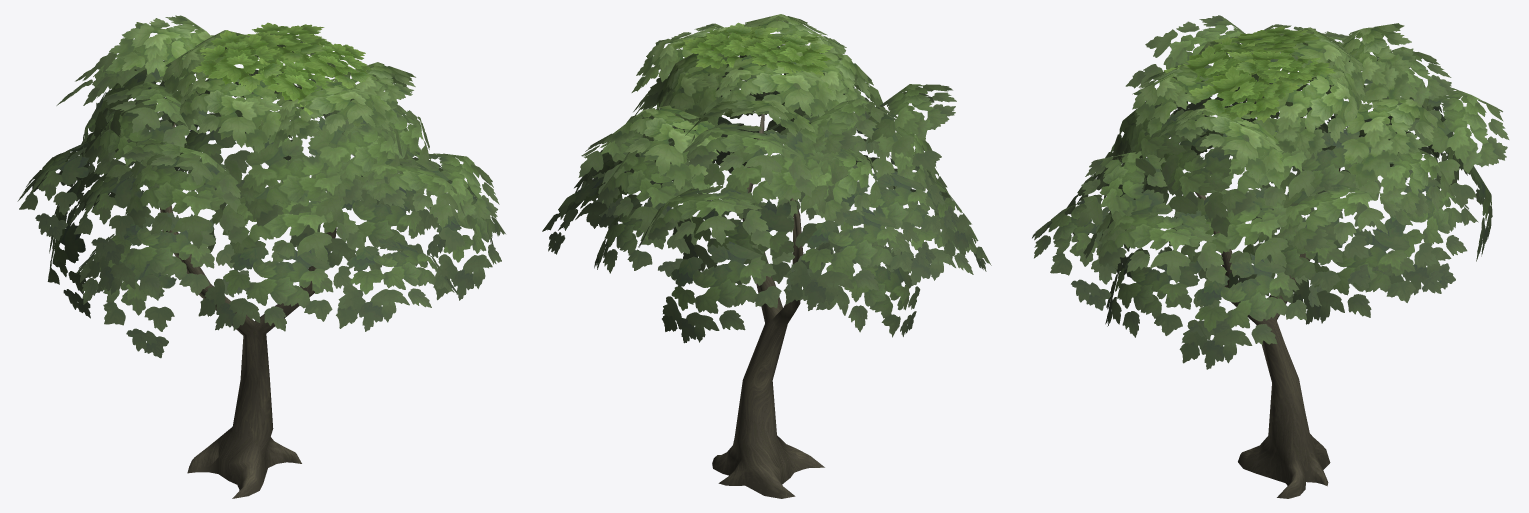
The model's file is tree6.glb.
The picture shows the model from 3 angles, left to right: view 1: azimuth 30°, elevation 25°; view 2: azimuth 150°, elevation 25°; view 3: azimuth 270°, elevation 25°; orthographic projection.
Parts seen in each view (by area): view 1: 树5; view 2: 树5; view 3: 树5.
Part boxes in pixels (x1=…): 树5: x1=17, y1=15, x2=505, y2=498; 树5: x1=542, y1=14, x2=991, y2=498; 树5: x1=1032, y1=15, x2=1509, y2=498.
Bounding box in the file's own units: 4.53 × 4.62 × 4.72.
4 materials, 4 textured.
